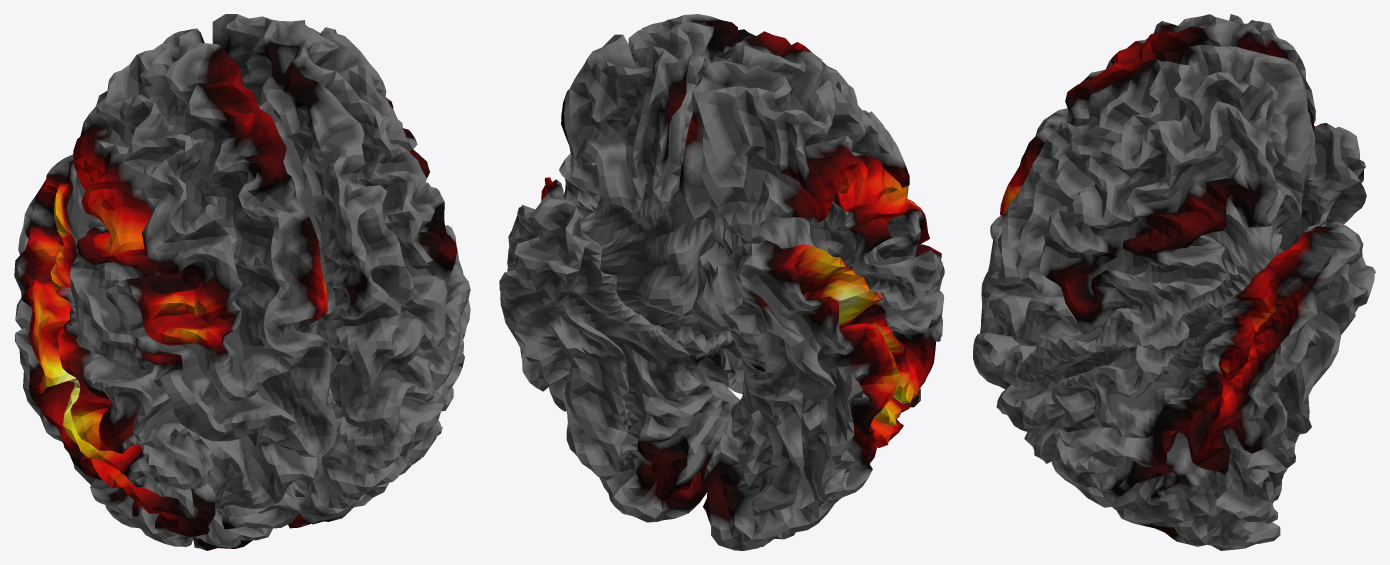
Rendered from SPM_cortex_20484_atlas.obj.
The picture shows the model from 3 angles, left to right: view 1: azimuth 30°, elevation 25°; view 2: azimuth 150°, elevation 25°; view 3: azimuth 270°, elevation 25°; orthographic projection. The views are drawn at different scales.
Parts seen in each view (by area): view 1: SPM_cortex_20484_atlas.obj; view 2: SPM_cortex_20484_atlas.obj; view 3: SPM_cortex_20484_atlas.obj.
Part boxes in pixels (bbox=[...]): SPM_cortex_20484_atlas.obj: bbox=[14, 14, 470, 550]; SPM_cortex_20484_atlas.obj: bbox=[499, 14, 944, 550]; SPM_cortex_20484_atlas.obj: bbox=[973, 14, 1375, 550].
Bounding box in the file's own units: 134 × 173 × 126.
